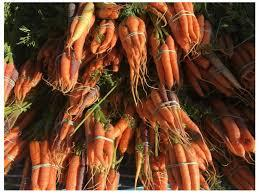Organic: (10, 4, 259, 190)
